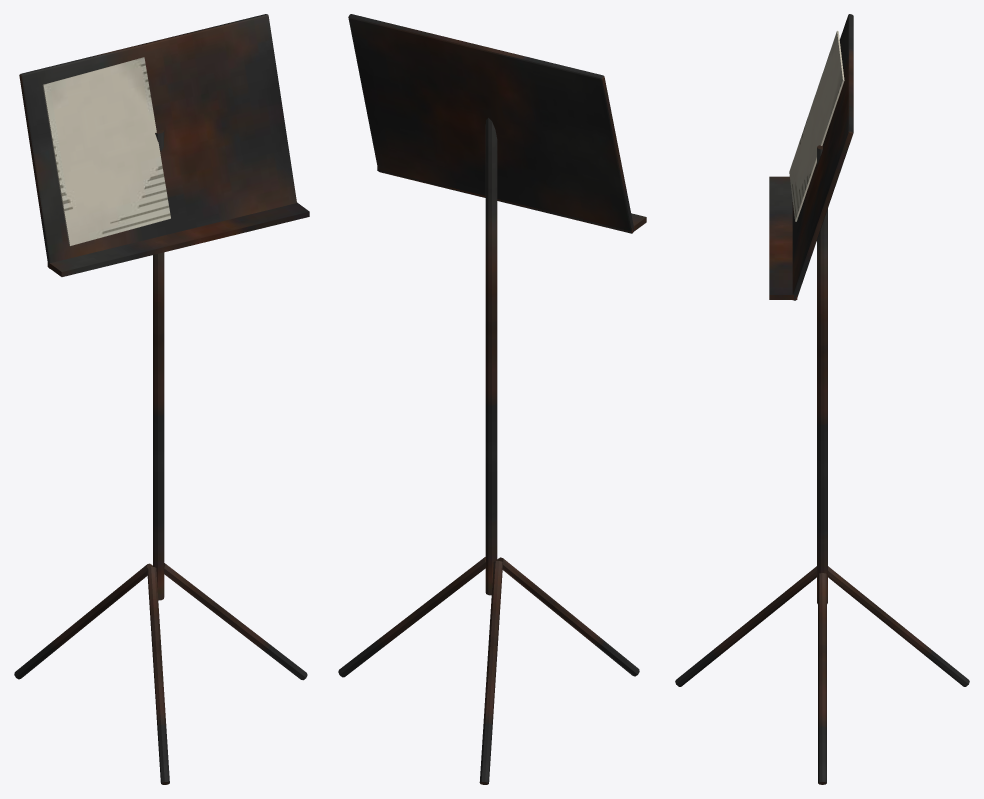
Rendered from MU13_MusicStand.glb.
The picture shows the model from 3 angles, left to right: view 1: azimuth 30°, elevation 25°; view 2: azimuth 150°, elevation 25°; view 3: azimuth 270°, elevation 25°; orthographic projection. The views are drawn at different scales.
Parts seen in each view (by area): view 1: MU13_MusicStand; view 2: MU13_MusicStand; view 3: MU13_MusicStand.
Boxes of the visible parts, x1,y1,x2,y2 form: MU13_MusicStand: [14, 14, 309, 784]; MU13_MusicStand: [338, 14, 646, 784]; MU13_MusicStand: [675, 14, 969, 784].
Bounding box in the file's own units: 0.5167 × 1.2 × 0.4965.
Materials: 2 (2 with a texture image).
